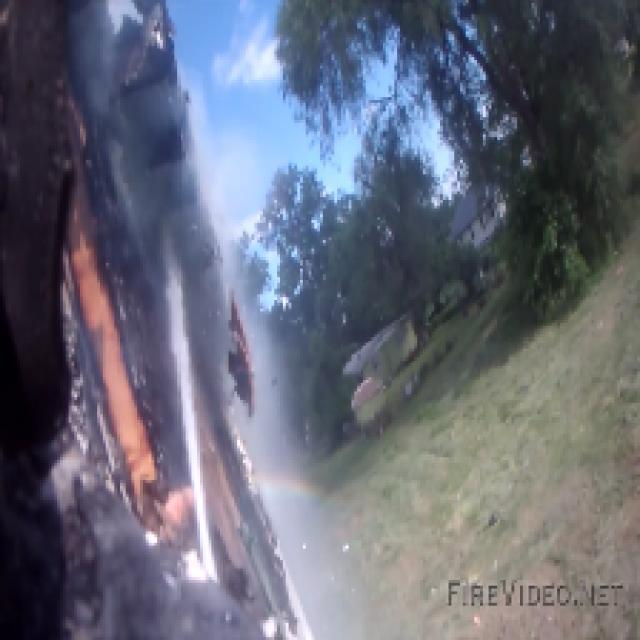Smoke: (74, 0, 317, 640)
